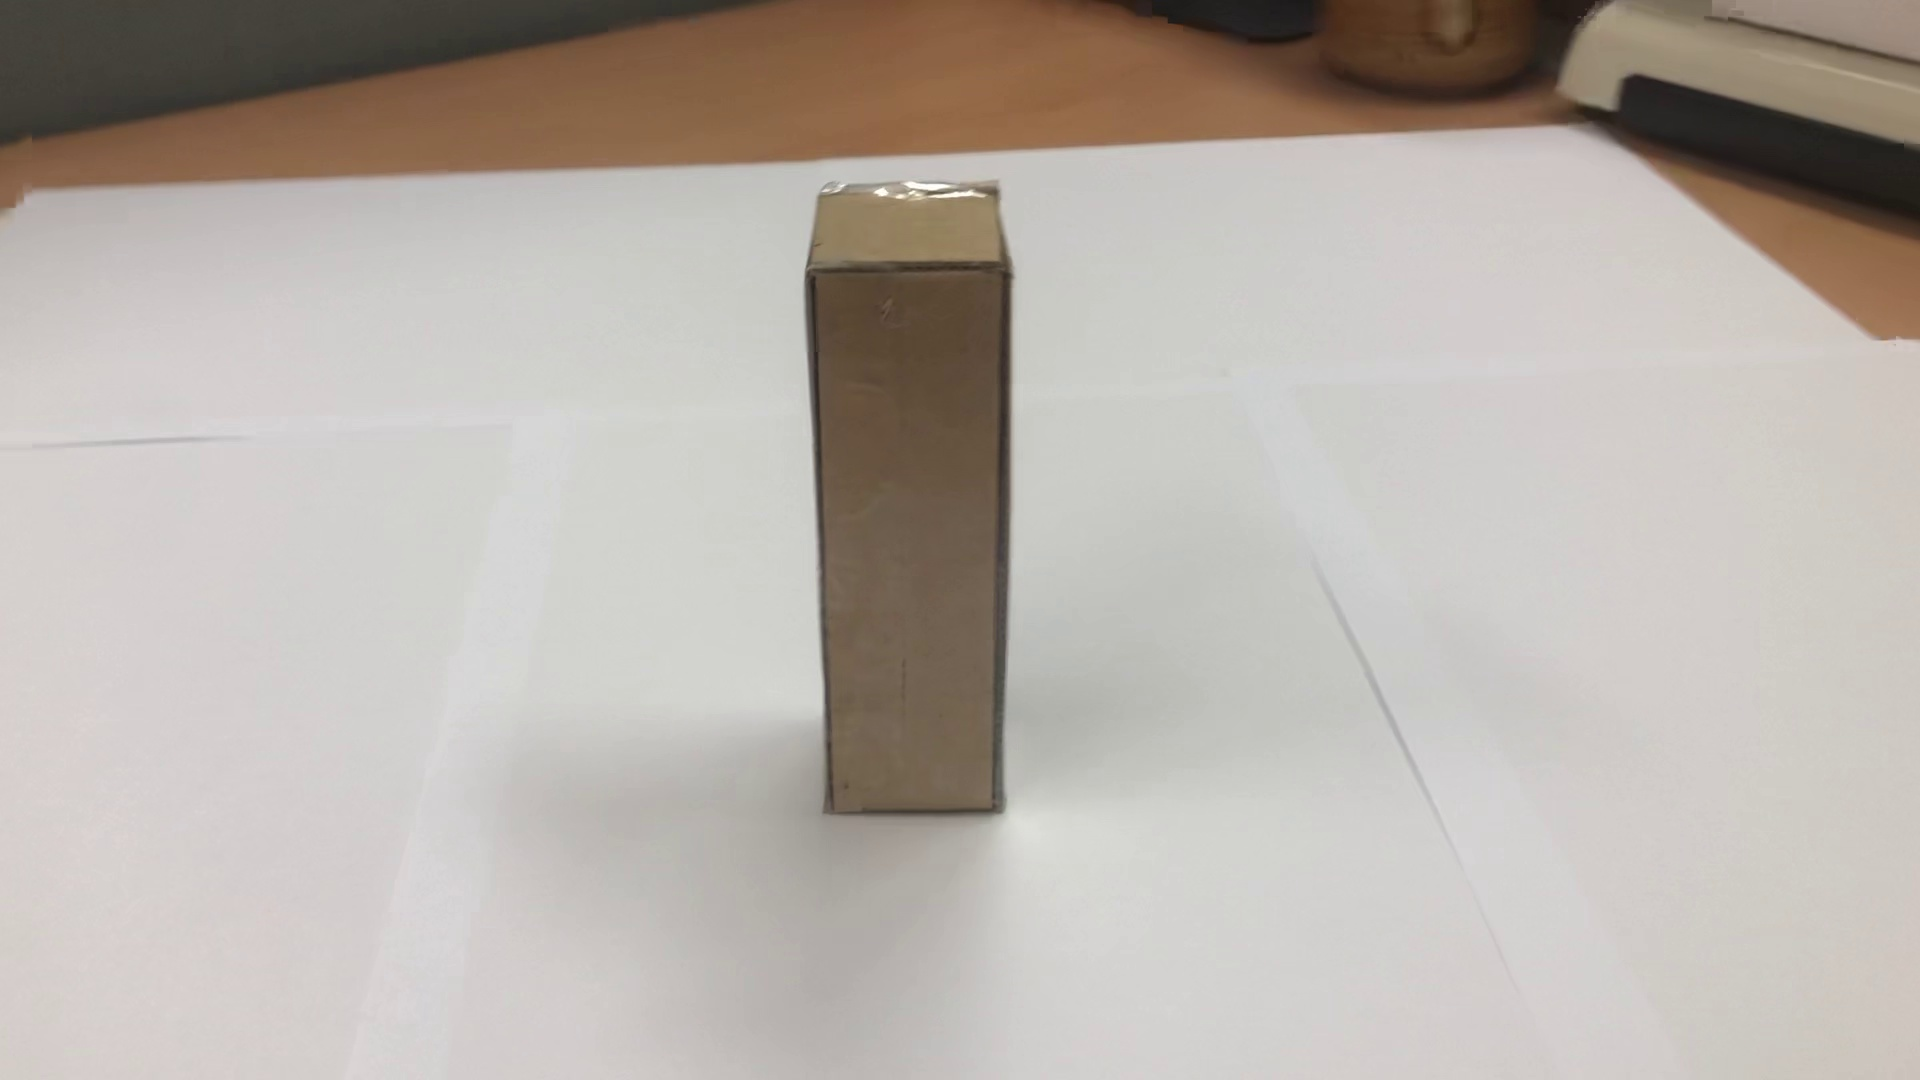box: (793, 156, 1034, 848)
